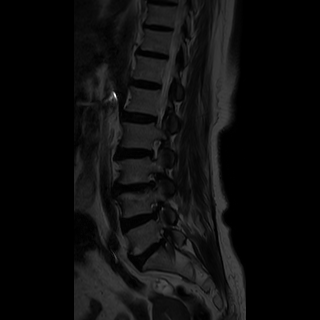RFS0: (137, 132, 165, 165)
